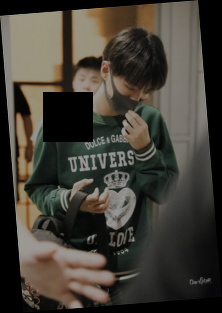with_mask: (110, 75, 154, 115)
without_mask: (74, 72, 105, 102)
